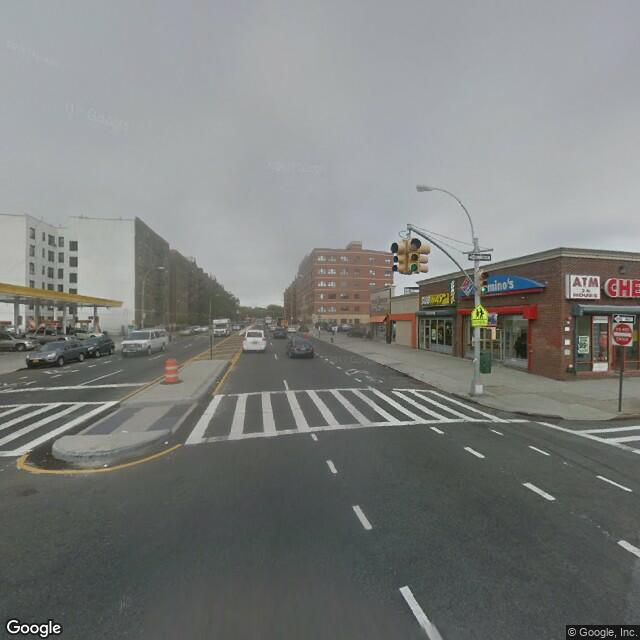litter: (116, 428, 134, 436), (162, 436, 169, 445), (101, 463, 108, 466)
